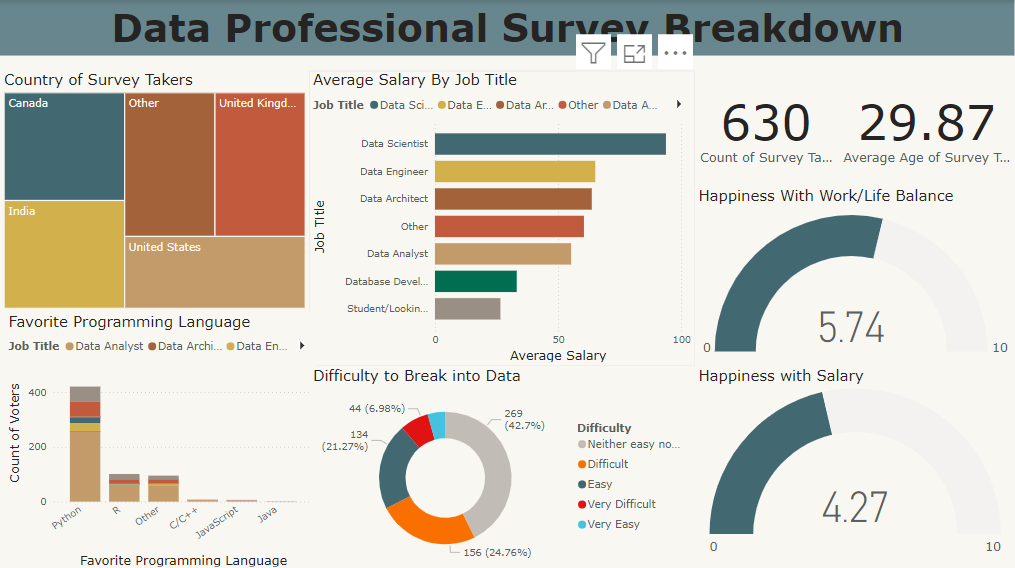

What the dashboard file says about the page in this screenshot:
{"tool":"powerbi","page":{"name":"Page 1","canvas":[1280,720],"ordinal":0},"visuals":[{"type":"textbox","box":[0,0,1279.4,69.9],"z":0},{"type":"card","fields":{"Values":["Count(Data Professional Survey.Unique ID)"]},"box":[875,85,179.5,149.3],"z":1000},{"type":"card","fields":{"Values":["Avg(Data Professional Survey.Q10 - Current Age)"]},"box":[1054.5,85,224.9,149.3],"z":2000},{"type":"barChart","title":"Average Salary By Job Title","fields":{"Category":["Data Professional Survey.Q1 - Which Title Best Fits your Current Role?.1"],"Y":["Avg(Data Professional Survey.Average Salary)"],"Series":["Data Professional Survey.Q1 - Which Title Best Fits your Current Role?.1"]},"box":[389.3,88.8,485.7,372.3],"z":3000},{"type":"columnChart","title":"Favorite Programming Language","fields":{"Category":["Data Professional Survey.Q5 - Favorite Programming Language.1"],"Y":["CountNonNull(Data Professional Survey.Unique ID)"],"Series":["Data Professional Survey.Q1 - Which Title Best Fits your Current Role?.1"]},"box":[5.7,393.1,393.1,326.9],"z":4000},{"type":"treemap","title":"Country of Survey Takers","fields":{"Group":["Data Professional Survey.Q11 - Which Country do you live in?.1"],"Values":["Count(Data Professional Survey.Q11 - Which Country do you live in?.1)"]},"box":[0,88.8,389.3,304.3],"z":4001},{"type":"gauge","title":"Happiness With Work/Life Balance","fields":{"Y":["Avg(Data Professional Survey.Q6 - How Happy are you in your Current Position with the following? (Work/Life Balance))"],"MinValue":["Min(Data Professional Survey.Q6 - How Happy are you in your Current Position with the following? (Work/Life Balance))1"],"MaxValue":["Max(Data Professional Survey.Q6 - How Happy are you in your Current Position with the following? (Work/Life Balance))2"]},"box":[875,234.3,404.4,226.8],"z":4002},{"type":"gauge","title":"Happiness with Salary","fields":{"Y":["Avg(Data Professional Survey.Q6 - How Happy are you in your Current Position with the following? (Salary))"],"MinValue":["Min(Data Professional Survey.Q6 - How Happy are you in your Current Position with the following? (Salary))"],"MaxValue":["Max(Data Professional Survey.Q6 - How Happy are you in your Current Position with the following? (Salary))"]},"box":[875,461.1,404.4,245.7],"z":4003},{"type":"donutChart","title":"Difficulty  to Break into Data","fields":{"Category":["Data Professional Survey.Q7 - How difficult was it for you to break into Data?"],"Y":["CountNonNull(Data Professional Survey.Q7 - How difficult was it for you to break into Data?)"]},"box":[389.3,461.1,485.7,258.9],"z":4004}]}

Visuals, with their boxes in screenshot pixels (x1, y1, x2, y2), scaled from the page's 1280x720 canvas onto the 1015x568 screenshot:
textbox: box=[0, 0, 1014, 55]
card - Count(Data Professional Survey.Unique ID): box=[694, 67, 836, 185]
card - Avg(Data Professional Survey.Q10 - Current Age): box=[836, 67, 1014, 185]
"Average Salary By Job Title" barChart: box=[309, 70, 694, 364]
"Favorite Programming Language" columnChart: box=[5, 310, 316, 567]
"Country of Survey Takers" treemap: box=[0, 70, 309, 310]
"Happiness With Work/Life Balance" gauge: box=[694, 185, 1014, 364]
"Happiness with Salary" gauge: box=[694, 364, 1014, 558]
"Difficulty  to Break into Data" donutChart: box=[309, 364, 694, 567]
